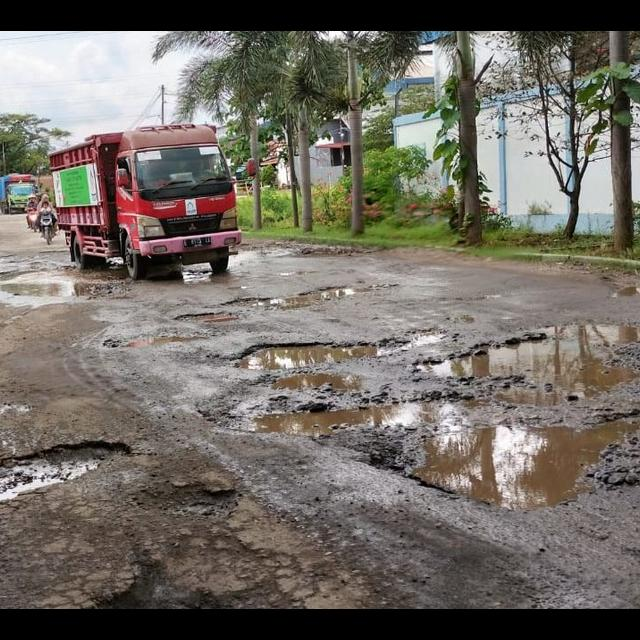lubang_kecil: (309, 392, 640, 526), (410, 298, 640, 413), (168, 378, 494, 438), (76, 529, 298, 609), (0, 419, 136, 511), (205, 325, 438, 374), (180, 281, 368, 322), (139, 465, 244, 527), (92, 321, 212, 365)
